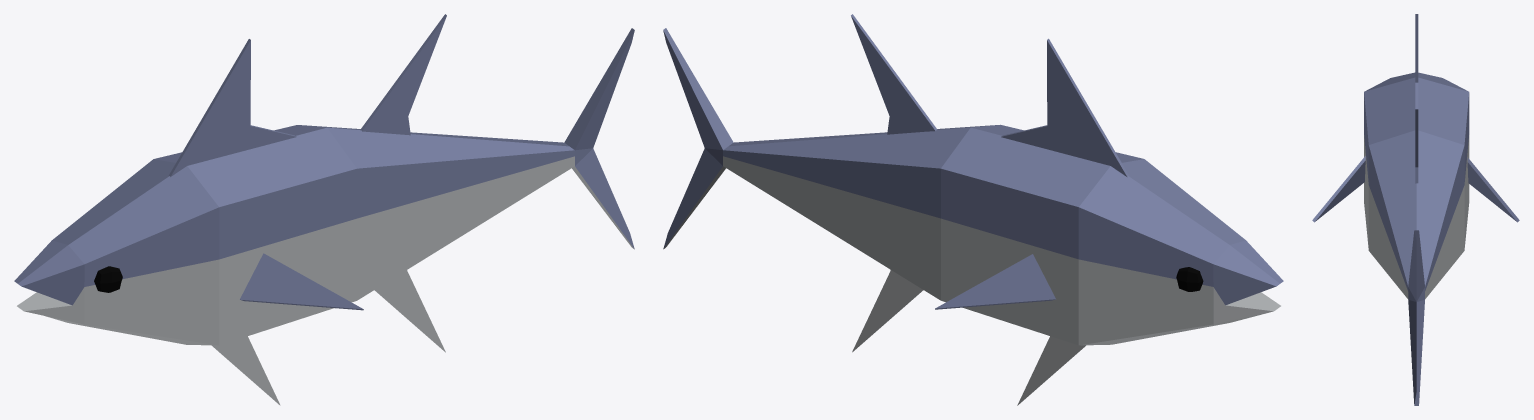
Rendered from tuna.fbx.
3 views of the same model, side by side, from view 1: azimuth 30°, elevation 25°; view 2: azimuth 150°, elevation 25°; view 3: azimuth 270°, elevation 25° (orthographic). The views are drawn at different scales.
Parts seen in each view (by area): view 1: tuna; view 2: tuna; view 3: tuna.
Boxes of the visible parts, x1,y1,x2,y2 form: tuna: (14,14,634,405); tuna: (663,14,1283,405); tuna: (1312,14,1519,405).
Size of the model in its own units: 98.63 by 57.15 by 36.
Materials: 1 (1 with a texture image).
